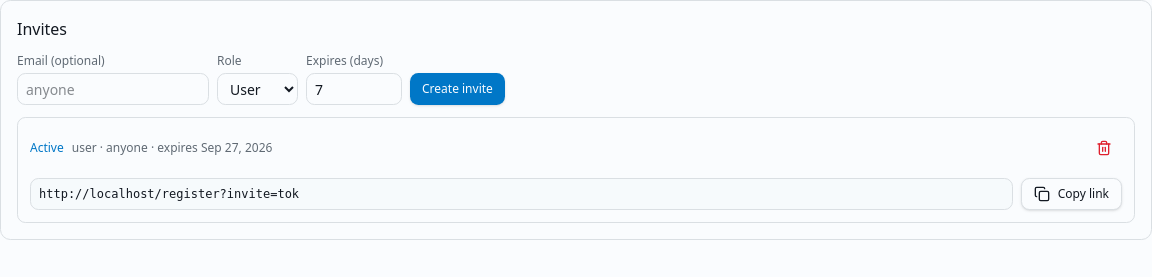
Test: with no clipboard (plain HTTP), Copy selects the link and says how to copy it
The width and height of the screenshot is (1152, 277).
Click the button "Copy link" at [1071, 194], box top-left (1021, 178), bottom-right (1122, 210)
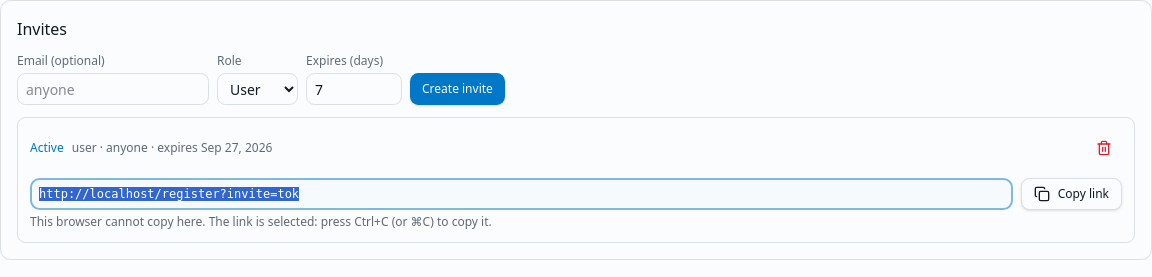
Result: the message shows "press Ctrl+C" at top-left (30, 213), bottom-right (492, 230)
